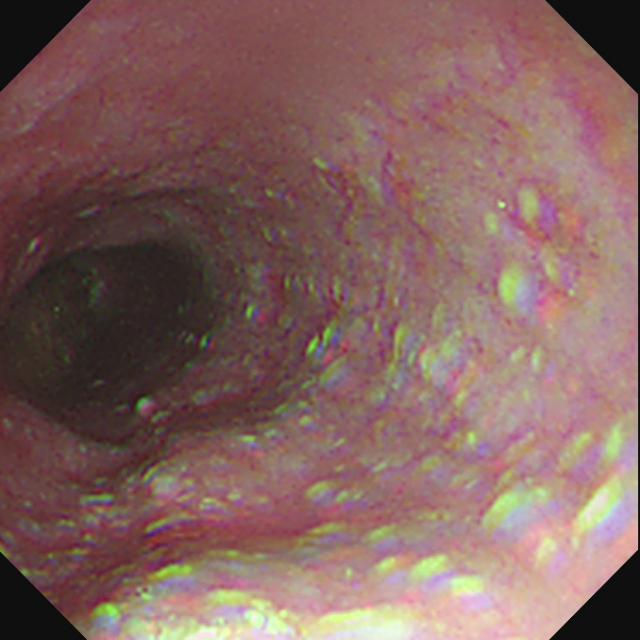E: (2, 220, 238, 468)
J: (240, 151, 598, 386), (297, 386, 630, 612), (89, 391, 293, 637)
